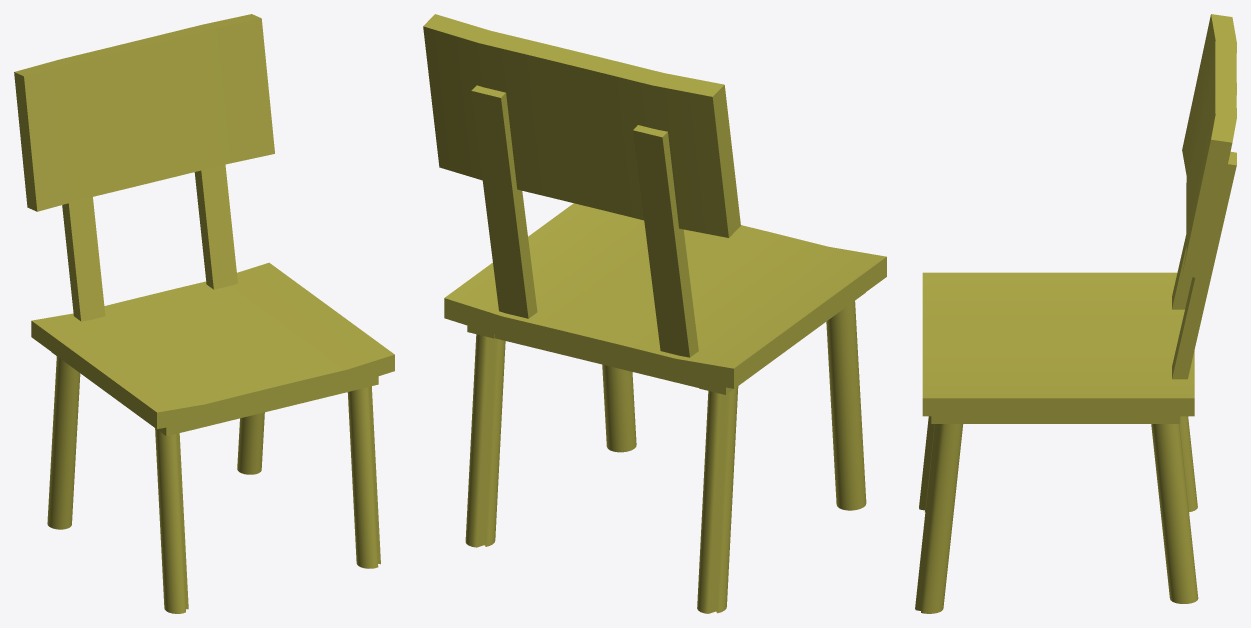
Rendered from Chair.fbx.
3 views of the same model, side by side, from view 1: azimuth 30°, elevation 25°; view 2: azimuth 150°, elevation 25°; view 3: azimuth 270°, elevation 25° (orthographic). The views are drawn at different scales.
Parts seen in each view (by area): view 1: Chair; view 2: Chair; view 3: Chair.
Boxes of the visible parts, x1,y1,x2,y2 form: Chair: (14, 14, 394, 613); Chair: (423, 14, 886, 613); Chair: (915, 14, 1236, 613).
Bounding box in the file's own units: 2.45 × 4.38 × 2.66.
